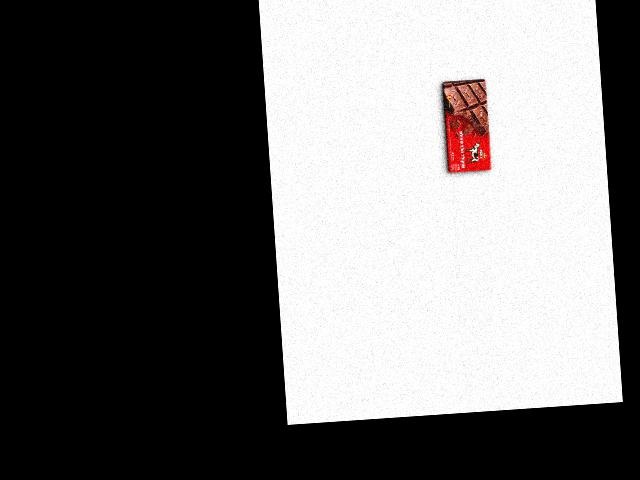chocolate: (438, 77, 493, 175)
